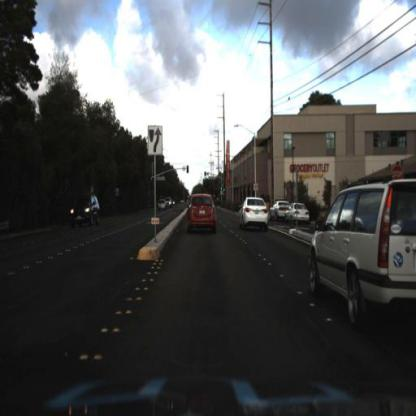car: (310, 177, 416, 378), (180, 189, 223, 238), (233, 193, 270, 241), (67, 192, 103, 232), (286, 203, 311, 228), (272, 202, 290, 223), (154, 198, 168, 214), (156, 196, 167, 213)
